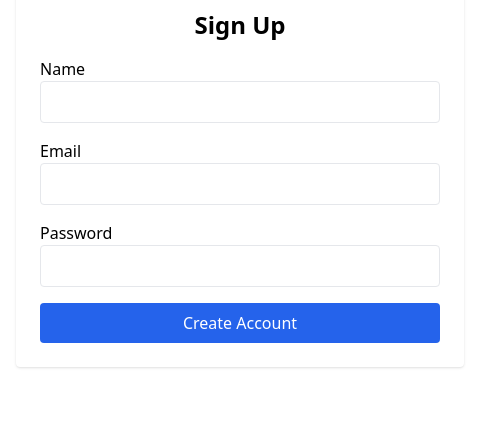
Test: SignUp Page › shows validation errors on empty submit
This screenshot has width=481, height=445.
Click the button "Create Account".
click(240, 323)  # box [40,303,440,343]
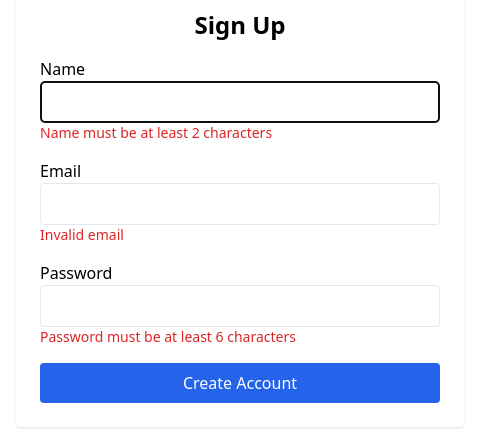
Now the text "Name must be at least 2 characters" is shown, box [40,123,272,142]
Now the text "Invalid email" is shown, box [40,225,124,244]
Now the text "Password must be at least 6 characters" is shown, box [40,327,296,346]
